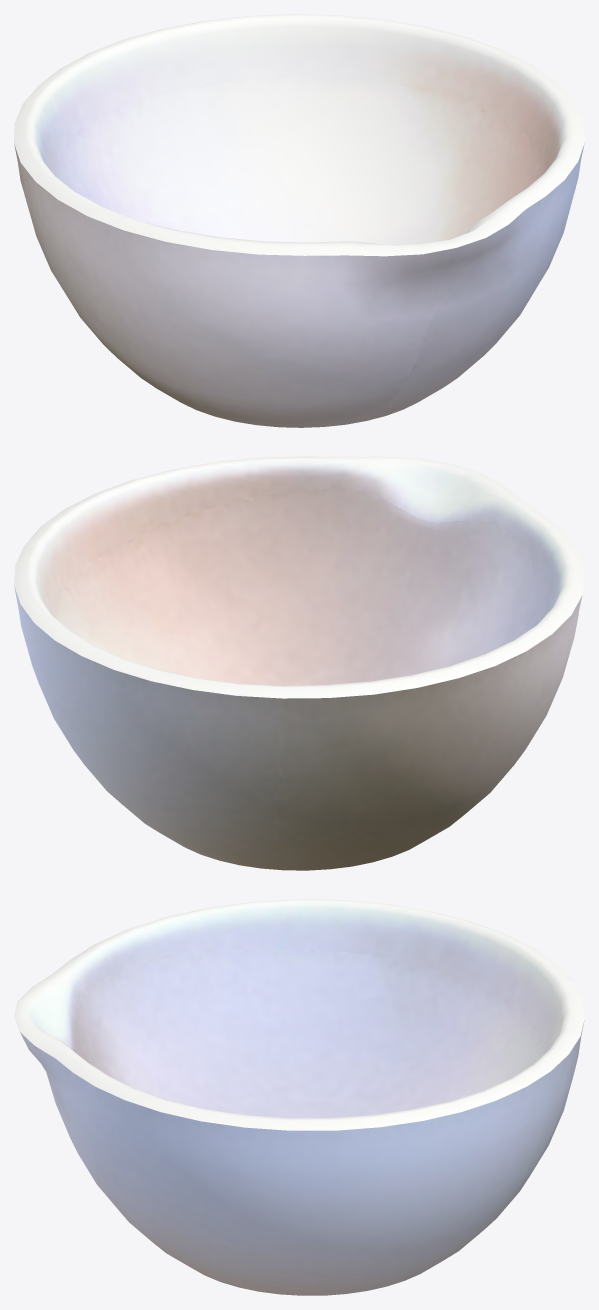
The model's file is mortar.glb.
3 views of the same model, one above another, from view 1: azimuth 30°, elevation 25°; view 2: azimuth 150°, elevation 25°; view 3: azimuth 270°, elevation 25° (orthographic). The views are drawn at different scales.
Parts seen in each view (by area): view 1: mortar; view 2: mortar; view 3: mortar.
Part boxes in pixels (x1=…): mortar: x1=14, y1=14, x2=584, y2=427; mortar: x1=14, y1=456, x2=584, y2=870; mortar: x1=14, y1=899, x2=584, y2=1295.
Size of the model in its own units: 0.0704 by 0.0321 by 0.0735.
1 material, 1 textured.
